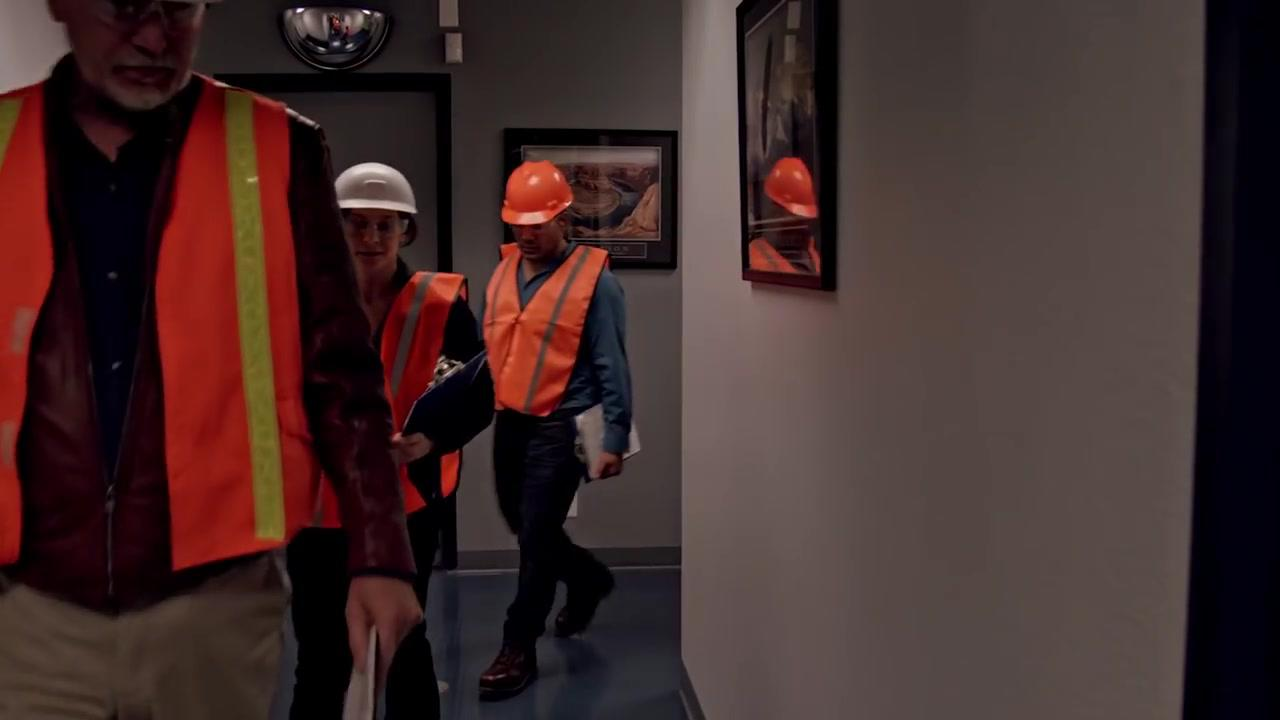Hi-Vis Jacket: (0, 87, 334, 564), (354, 266, 475, 508), (493, 244, 610, 420)
